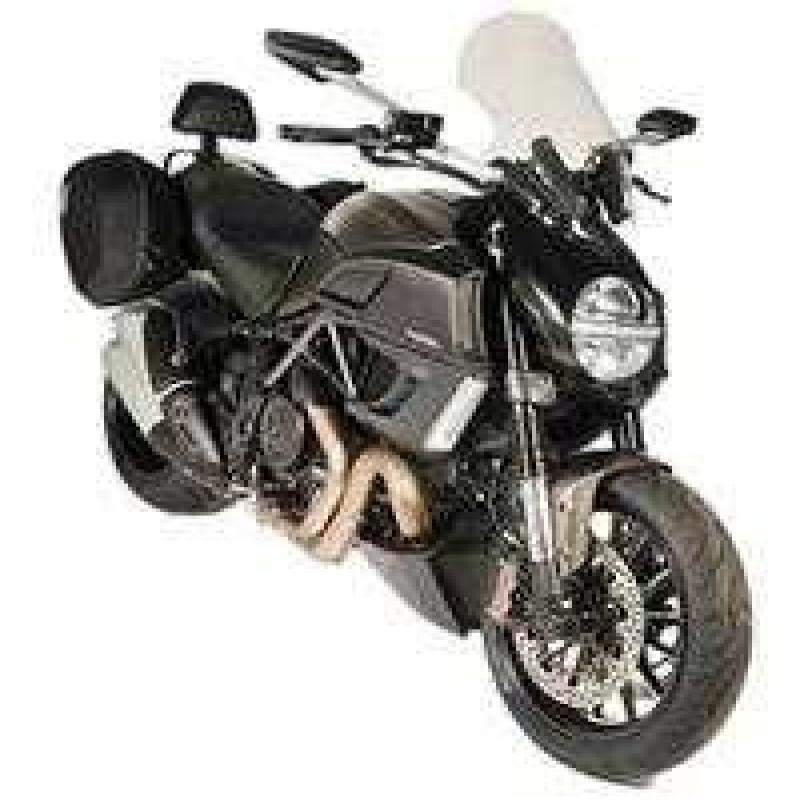bike: (25, 12, 764, 790)
